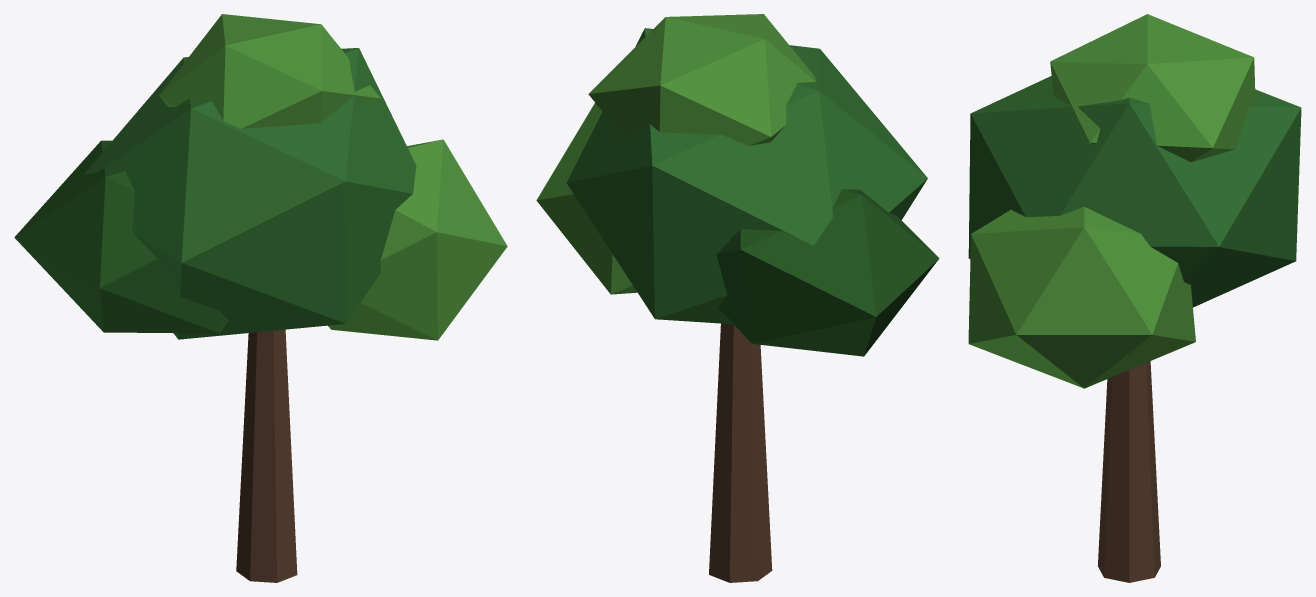
Rendered from tree_0.obj.
The picture shows the model from 3 angles, left to right: view 1: azimuth 30°, elevation 25°; view 2: azimuth 150°, elevation 25°; view 3: azimuth 270°, elevation 25°; orthographic projection. The views are drawn at different scales.
Parts seen in each view (by area): view 1: tree_0; view 2: tree_0; view 3: tree_0.
Boxes of the visible parts, x1,y1,x2,y2 form: tree_0: (14,14,507,582); tree_0: (536,14,939,582); tree_0: (968,14,1301,582).
Size of the model in its own units: 4.95 by 6.6 by 3.7.
